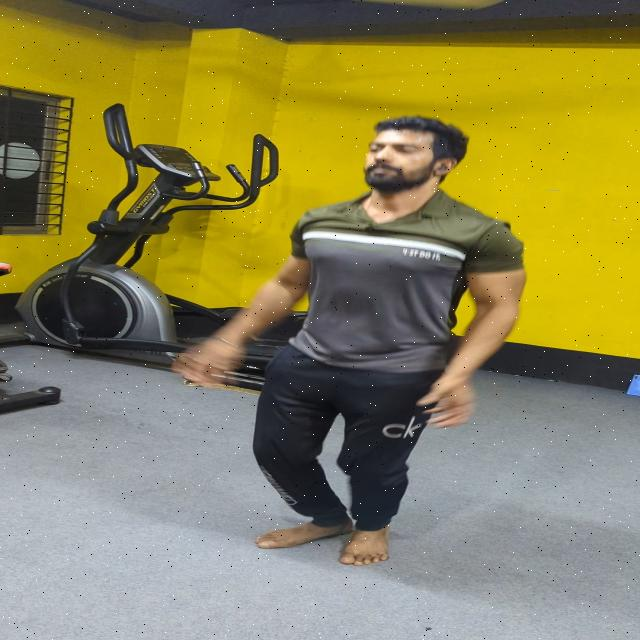Normal_JumpingJacks: (128, 94, 628, 578)
